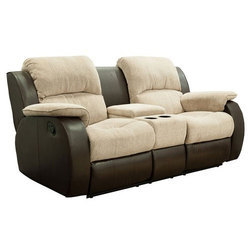chairs: (6, 52, 245, 199)
